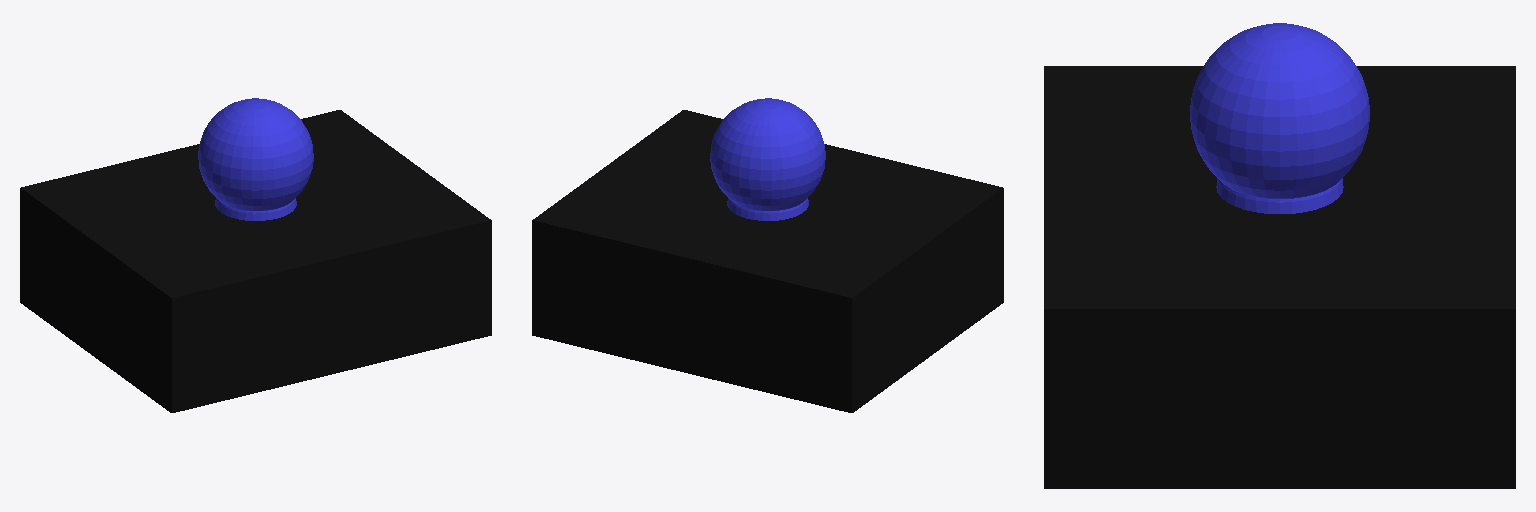
robot.urdf — evolved_robot:
<?xml version="1.0"?>
<robot name="evolved_robot">
  <material name="metal">
    <color rgba="0.7 0.7 0.7 1.0"/>
  </material>
  <material name="plastic">
    <color rgba="0.3 0.3 0.9 1.0"/>
  </material>
  <material name="rubber">
    <color rgba="0.1 0.1 0.1 1.0"/>
  </material>
  <material name="red">
    <color rgba="1.0 0.0 0.0 1.0"/>
  </material>
  <material name="wheel_material">
    <color rgba="0.2 0.2 0.2 1.0"/>
  </material>
  <link name="base_link">
    <visual>
      <geometry><box size="0.3520523177774143 0.28830199906972864 0.12138160494244313"/></geometry>
      <material name="rubber"/>
    </visual>
    <collision>
      <geometry><box size="0.3520523177774143 0.28830199906972864 0.12138160494244313"/></geometry>
    </collision>
    <inertial>
      <mass value="5.0"/>
      <inertia ixx="0.08154294723833762" ixy="0" ixz="0" 
               iyy="0.11556194039237737" iyz="0" 
               izz="0.17254906426670943"/>
    </inertial>
  </link>
  <link name="link1">
    <visual>
      <geometry><sphere radius="0.038968192844657516"/></geometry>
      <material name="plastic"/>
    </visual>
    <collision>
      <geometry><sphere radius="0.038968192844657516"/></geometry>
    </collision>
    <inertial>
      <mass value="0.5"/>
      <inertia ixx="0.0006074080214313669" ixy="0" ixz="0" 
               iyy="0.0006074080214313669" iyz="0" 
               izz="0.0006074080214313669"/>
    </inertial>
  </link>
  <joint name="joint1" type="revolute">
    <parent link="base_link"/>
    <child link="link1"/>
    <origin xyz="0 0 0.060690802471221564" rpy="0 0 0"/>
    <axis xyz="0.7558472171279608 -0.5480777980783323 -0.3581978665675218"/>
    <dynamics damping="0.7491799144562219" friction="0.1"/>
    <limit lower="-2.1680071736017976" upper="1.0936309539748783" effort="100" velocity="100"/>
  </joint>
  <link name="link2">
    <visual>
      <geometry>
        <cylinder radius="0.06309177534795424" length="0.041489657885270634"/>
      </geometry>
      <material name="wheel_material"/>
    </visual>
    <collision>
      <geometry>
        <cylinder radius="0.06309177534795424" length="0.041489657885270634"/>
      </geometry>
    </collision>
    <inertial>
      <mass value="1.0"/>
      <inertia ixx="0.0011385923384255815" ixy="0" ixz="0" 
               iyy="0.0011385923384255815" iyz="0" 
               izz="0.001990286058278363"/>
    </inertial>
  </link>
  <joint name="joint2" type="continuous">
    <parent link="base_link"/>
    <child link="link2"/>
    <origin xyz="0 0 0" rpy="1.5708 0 0"/>
    <axis xyz="0 1 0"/>
    <dynamics damping="0.8580717811056615" friction="0.1"/>
  </joint>
  <link name="link3">
    <visual>
      <geometry><sphere radius="0.05531625910761198"/></geometry>
      <material name="plastic"/>
    </visual>
    <collision>
      <geometry><sphere radius="0.05531625910761198"/></geometry>
    </collision>
    <inertial>
      <mass value="0.5"/>
      <inertia ixx="0.0012239554086641861" ixy="0" ixz="0" 
               iyy="0.0012239554086641861" iyz="0" 
               izz="0.0012239554086641861"/>
    </inertial>
  </link>
  <joint name="joint3" type="floating">
    <parent link="base_link"/>
    <child link="link3"/>
    <origin xyz="0 0 0.11069080247122157" rpy="0 0 0"/>
    <axis xyz="0.37031706622392374 0.23203050056101004 -0.8994593472040374"/>
    <dynamics damping="0.7719846144977497" friction="0.1"/>
  </joint>
</robot>

--- What the picture shows (computed from the rendered views, not written in the file) ---
The picture shows the robot from 3 angles, left to right: view 1: azimuth 30°, elevation 25°; view 2: azimuth 150°, elevation 25°; view 3: azimuth 270°, elevation 25°; orthographic projection.
Model evolved_robot with 4 links and 3 joints (1 revolute, 1 continuous, 1 floating), rooted at base_link, posed all joints at 0.
Links seen in each view (by area): view 1: base_link, link3, link1; view 2: base_link, link3, link1; view 3: base_link, link3, link1.
Link boxes in pixels (left/top/right/bottom): base_link: left=20, top=110, right=491, bottom=412; link3: left=198, top=98, right=313, bottom=210; link1: left=215, top=198, right=296, bottom=220; base_link: left=532, top=110, right=1003, bottom=412; link3: left=710, top=98, right=825, bottom=210; link1: left=727, top=198, right=808, bottom=220; base_link: left=1044, top=66, right=1515, bottom=488; link3: left=1190, top=23, right=1369, bottom=198; link1: left=1216, top=178, right=1343, bottom=213.
Size in the robot's own frame: 0.3521 by 0.2883 by 0.2291 metres.
Geometry: primitives only (box / cylinder / sphere), no mesh files.